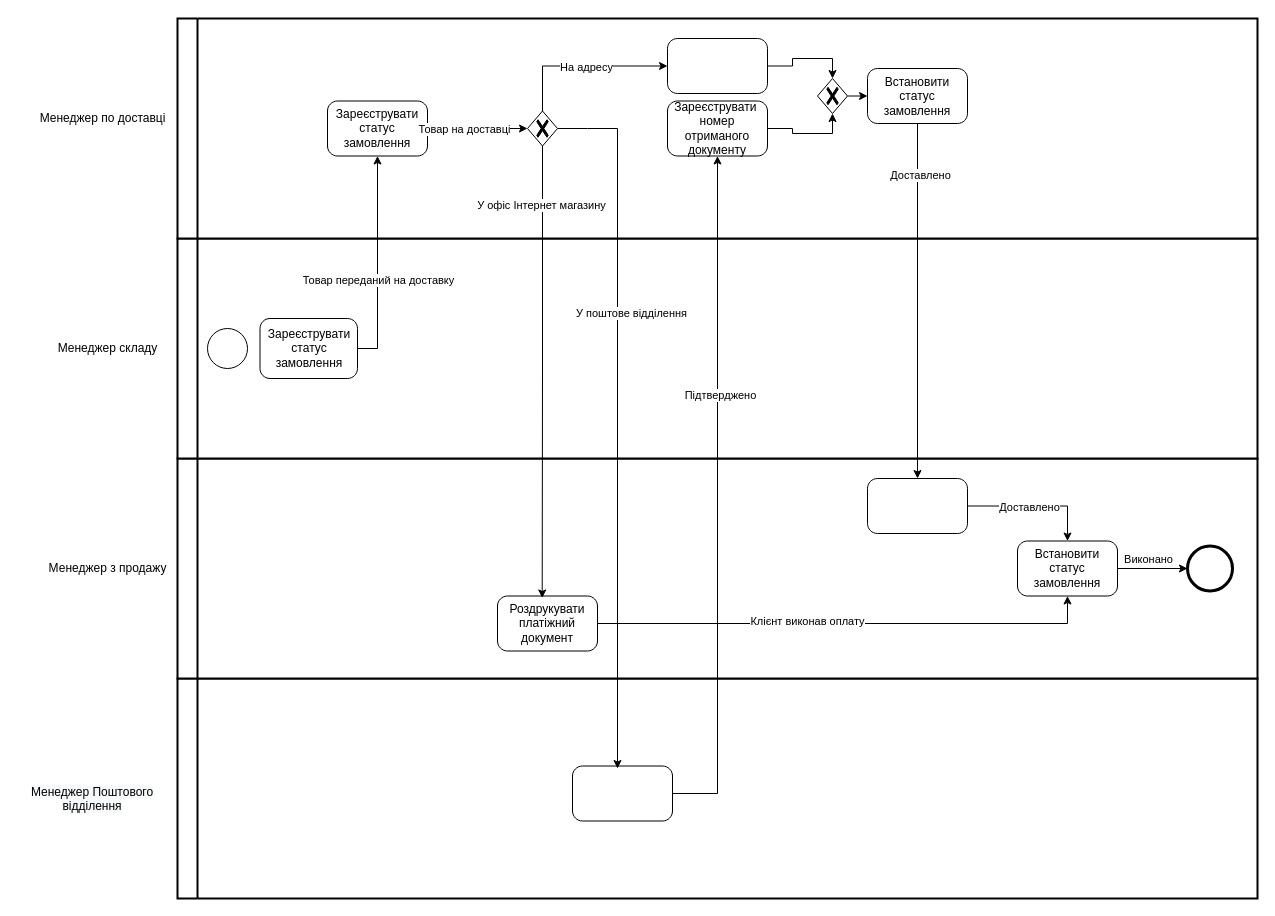
Some shapes in this 1275 by 916 pixel diagram are drawn without their labels. Each missing label, with the centre of its shape:
"Зареєструвати спосіб отримання оплати" goes at point (717, 66).
"Перевірити статус замовлення" goes at point (917, 506).
"Підтвердити отримання товару документом" goes at point (622, 793).
